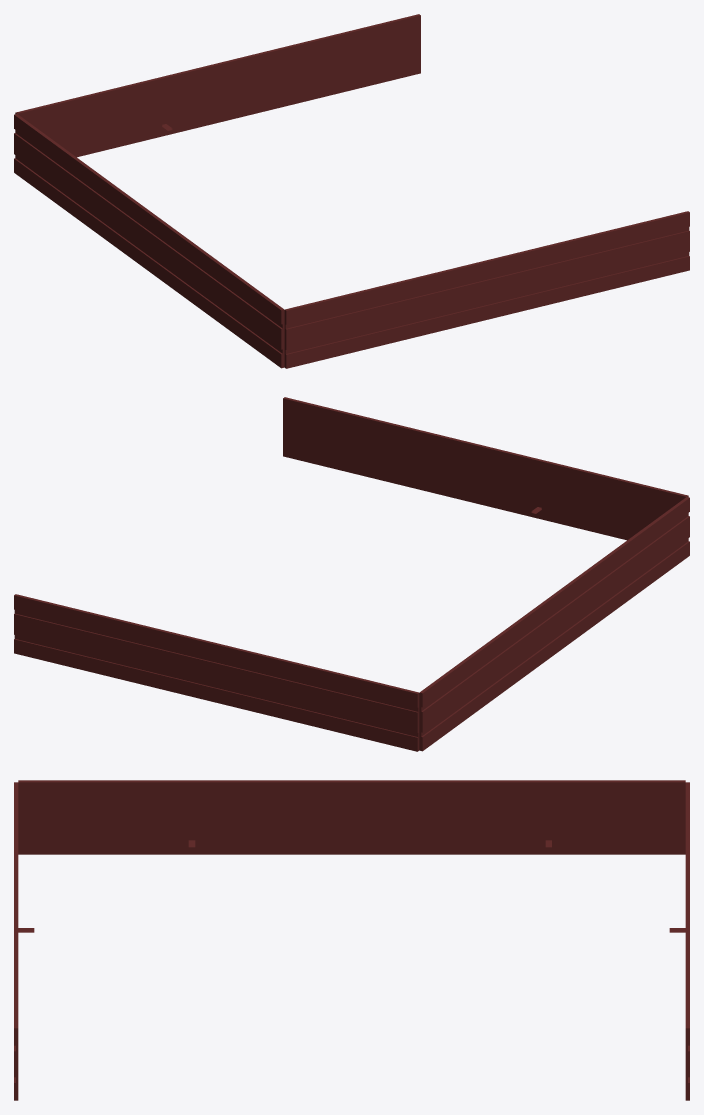
The model's file is p55-entrance-shield-short.fbx.
3 views of the same model, one above another, from view 1: azimuth 30°, elevation 25°; view 2: azimuth 150°, elevation 25°; view 3: azimuth 270°, elevation 25° (orthographic). The views are drawn at different scales.
Parts seen in each view (by area): view 1: p55-entrance-shield-short; view 2: p55-entrance-shield-short; view 3: p55-entrance-shield-short.
Part boxes in pixels (bbox=[...]): p55-entrance-shield-short: bbox=[14, 14, 689, 368]; p55-entrance-shield-short: bbox=[14, 397, 689, 751]; p55-entrance-shield-short: bbox=[14, 780, 689, 1100].
Size of the model in its own units: 514 by 69.99 by 592.
